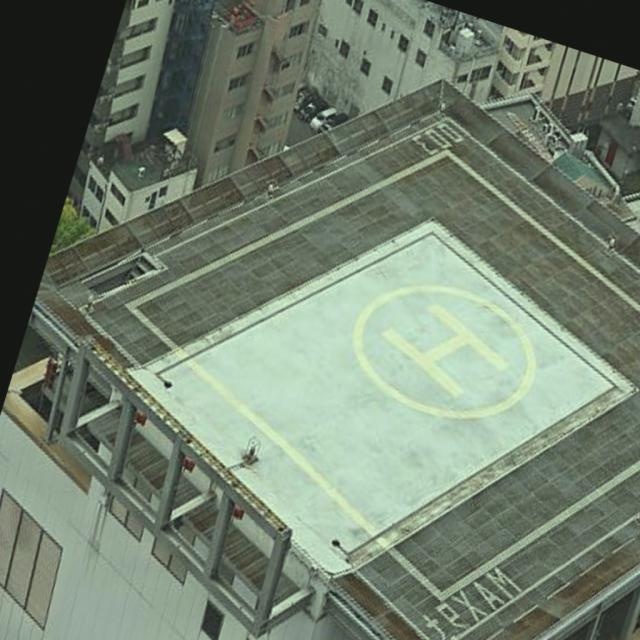helipad: (346, 275, 541, 425)
